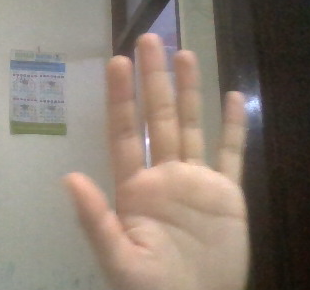move: (64, 35, 300, 288)
